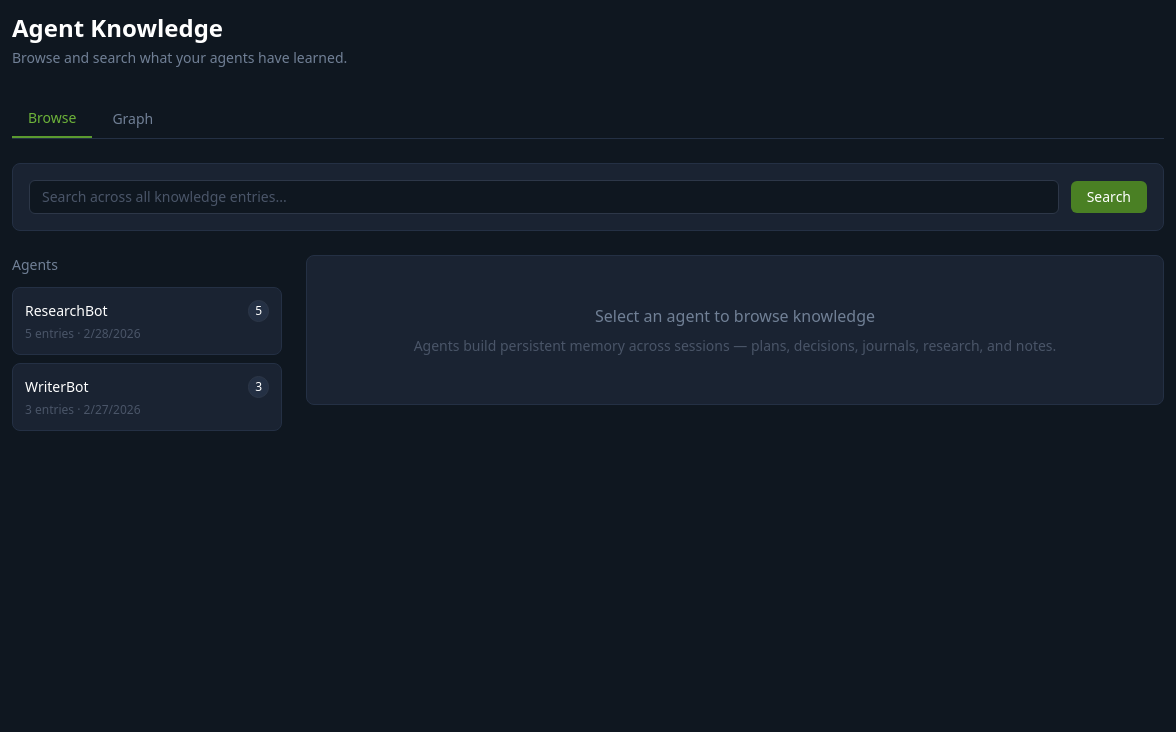
KnowledgeClient › fetches and displays entry content on click
This screenshot has width=1176, height=732.
Click the text "ResearchBot": (66, 311) [25, 301, 108, 321]
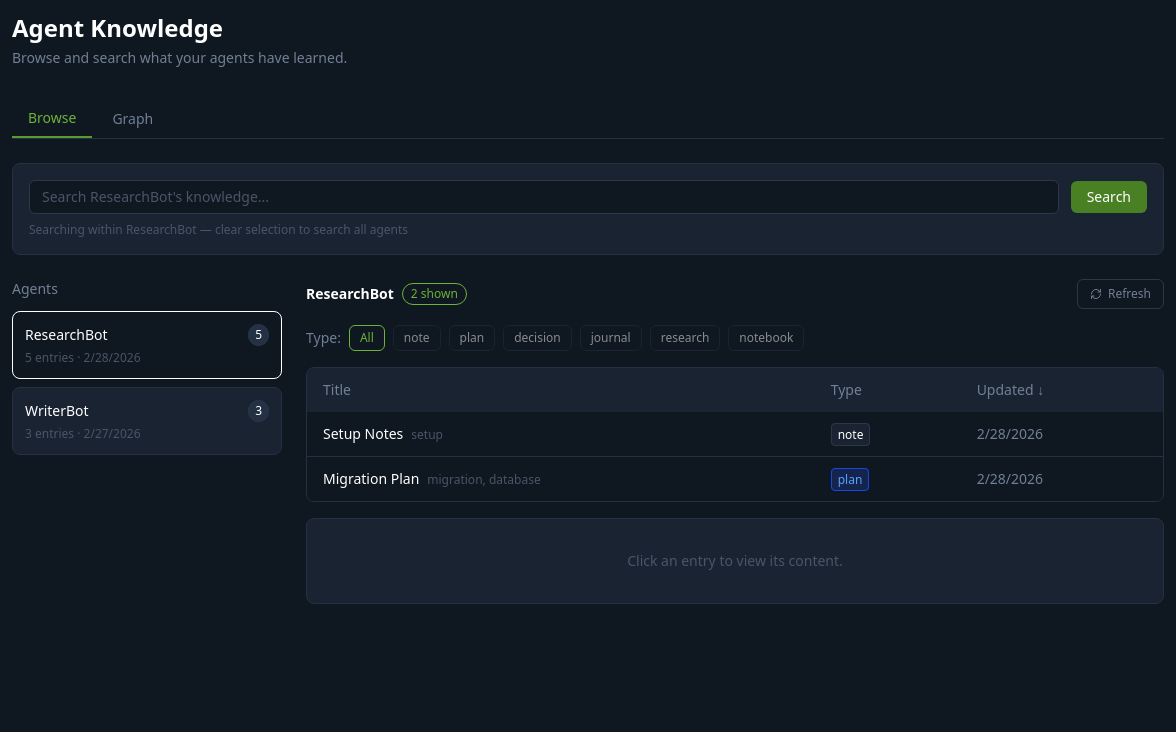
Result: the text "Setup Notes" is shown
Click the entry row in the table
Click the text "Setup Notes": (363, 434) [323, 424, 403, 443]
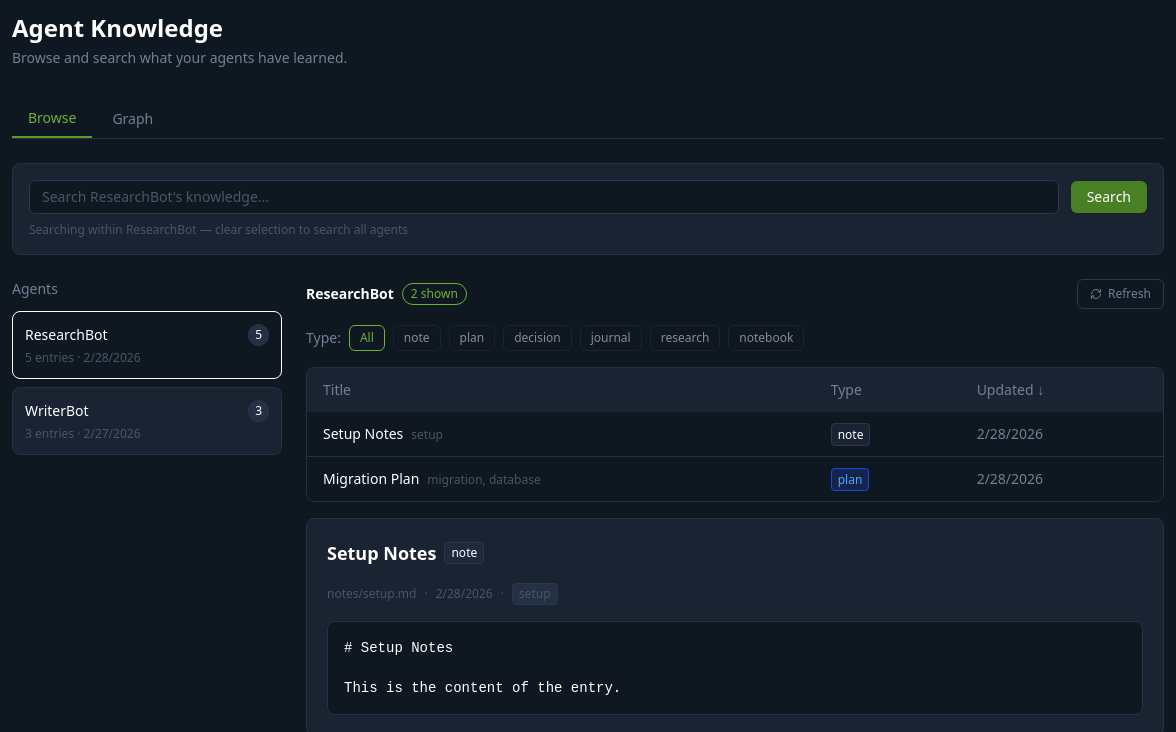
Result: the text "# Setup Notes This is the content of the entry." is shown at [327, 621, 1143, 715]
